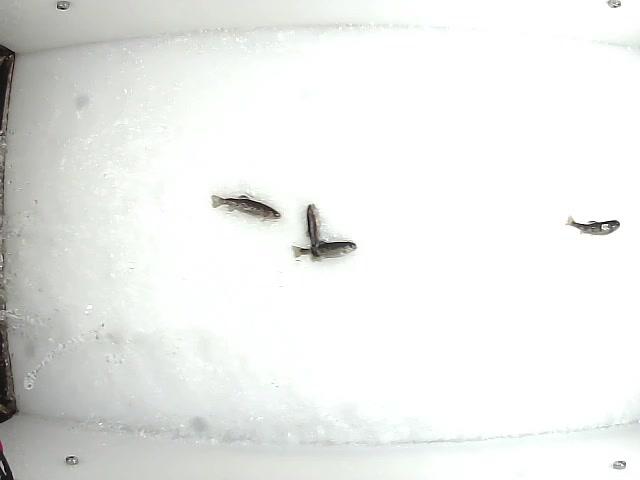fish: (210, 192, 282, 222), (290, 238, 361, 261), (303, 200, 326, 263), (564, 213, 621, 237)
